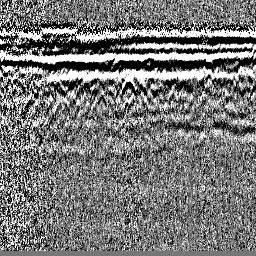cavity: (121, 76, 136, 95)
